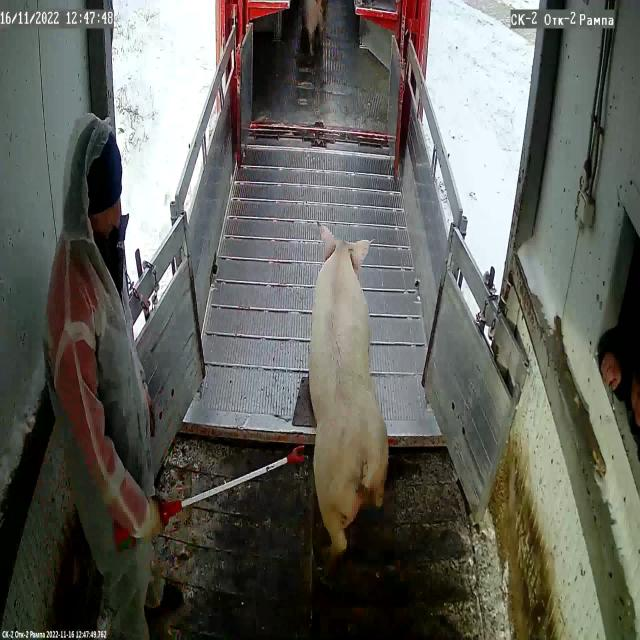pig: (308, 231, 389, 554)
